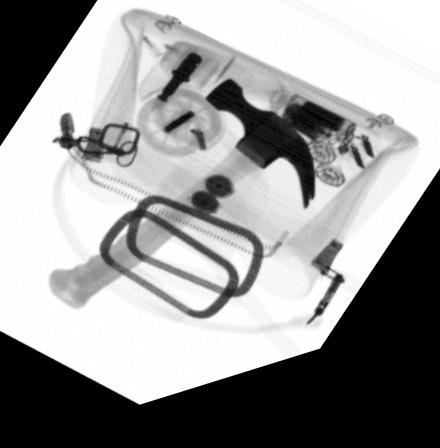Hammer: (48, 91, 316, 313)
